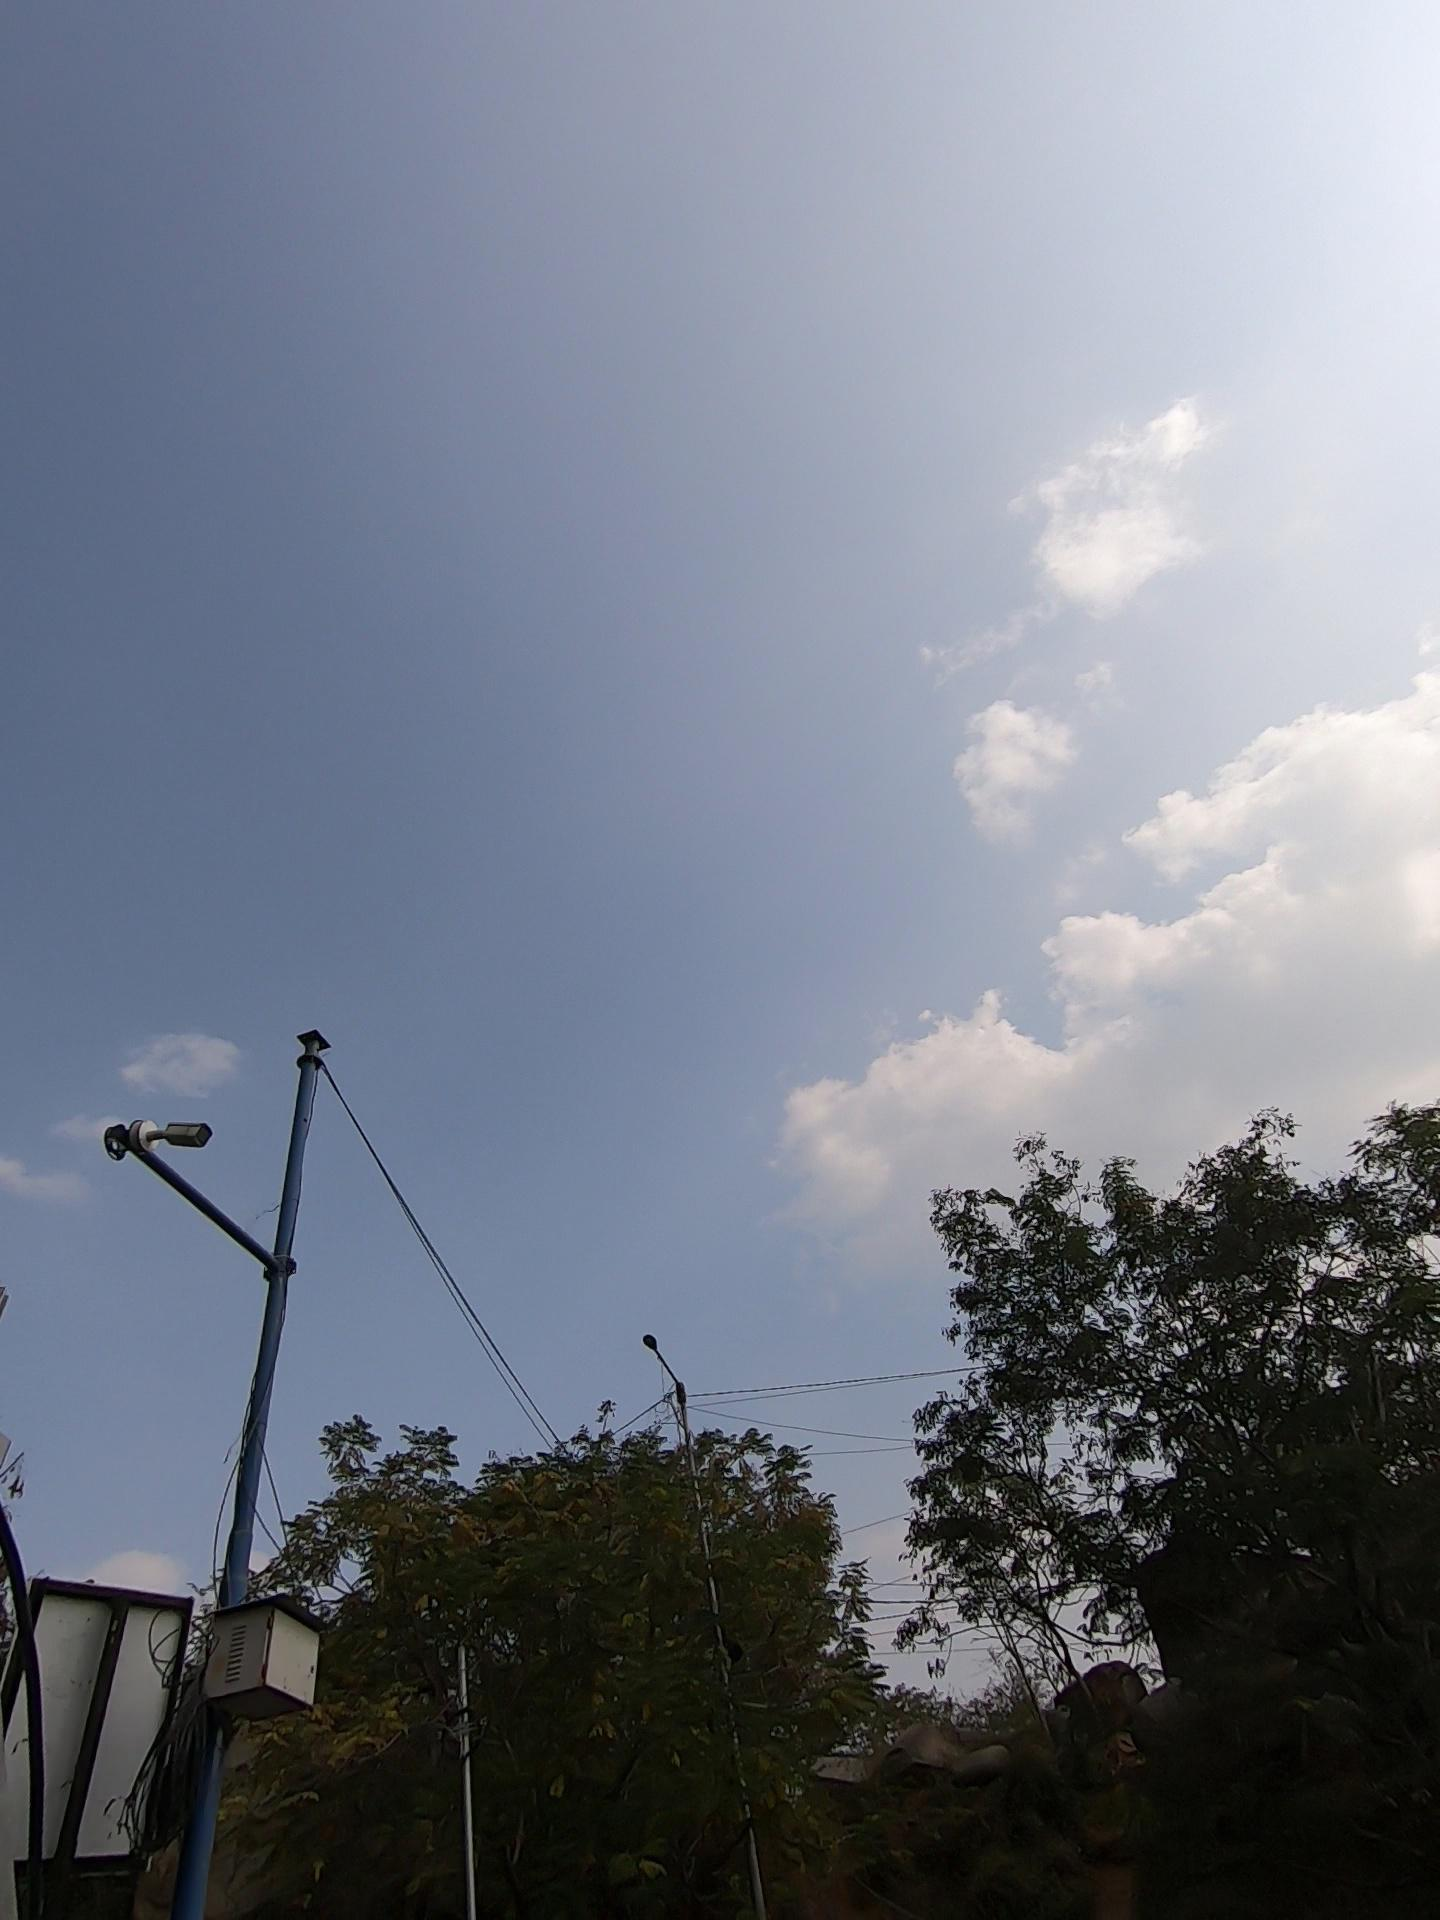off: (0, 1406, 83, 1772)
